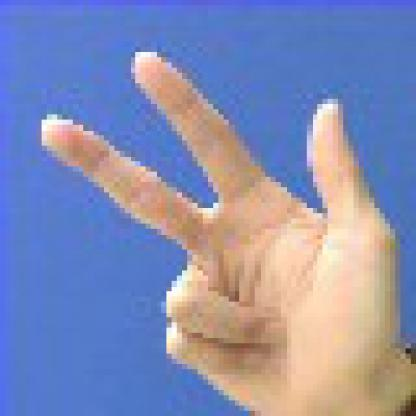eight: (31, 41, 411, 410)
